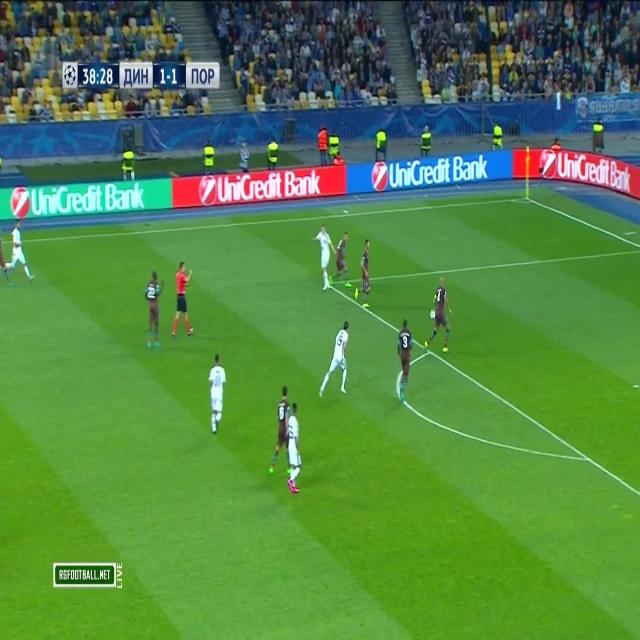Ball: (428, 304, 438, 324)
Player: (318, 320, 351, 398), (423, 276, 452, 356), (268, 382, 290, 477), (6, 217, 35, 283), (207, 353, 228, 440), (143, 270, 165, 351), (395, 318, 415, 406), (287, 400, 304, 499), (352, 235, 372, 310), (329, 228, 351, 292), (315, 223, 335, 293)
Referee: (171, 258, 194, 340)
